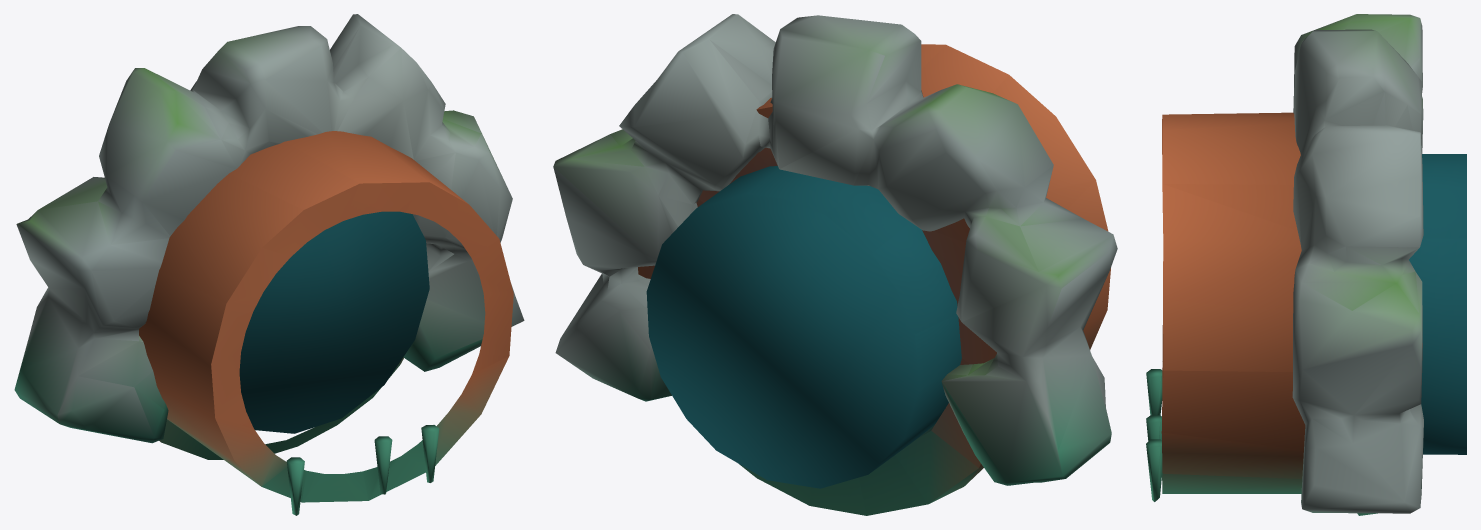
File: grotto_burrow_lod1.glb
3 renders of one model, left to right at view 1: azimuth 30°, elevation 25°; view 2: azimuth 150°, elevation 25°; view 3: azimuth 270°, elevation 25°, orthographic. The views are drawn at different scales.
Parts seen in each view (by area): view 1: grotto_burrow.001; view 2: grotto_burrow.001; view 3: grotto_burrow.001.
Boxes of the visible parts, x1=… form: grotto_burrow.001: x1=14, y1=14, x2=524, y2=515; grotto_burrow.001: x1=553, y1=14, x2=1117, y2=515; grotto_burrow.001: x1=1146, y1=14, x2=1466, y2=515.
Size of the model in its own units: 7.8 by 6.84 by 4.43.
